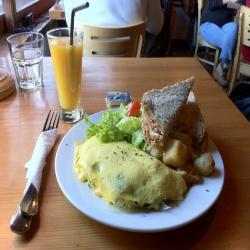bread: (138, 81, 213, 158)
omelette: (68, 139, 192, 217)
salad: (80, 107, 151, 145)
